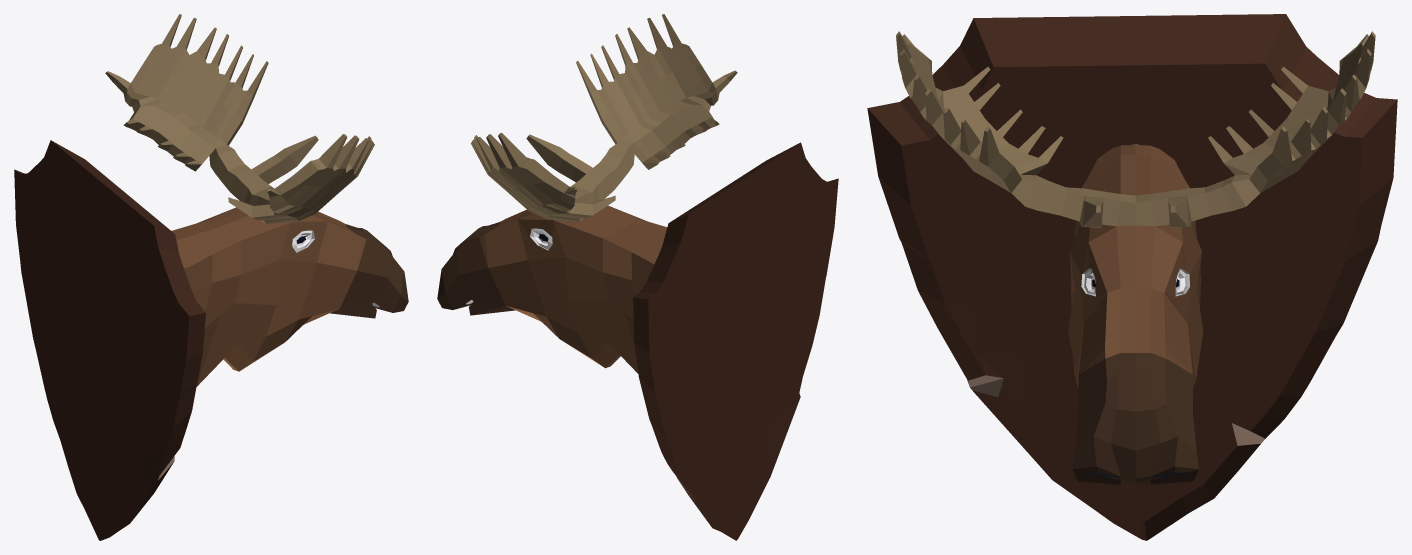
File: Moose_totem.blend1.fbx
The picture shows the model from 3 angles, left to right: view 1: azimuth 30°, elevation 25°; view 2: azimuth 150°, elevation 25°; view 3: azimuth 270°, elevation 25°; orthographic projection. The views are drawn at different scales.
Parts seen in each view (by area): view 1: Cube, Plane; view 2: Cube, Plane; view 3: Cube, Plane.
Part boxes in pixels (<box>): Cube: <box>14,140,205,540</box>; Plane: <box>105,14,408,386</box>; Cube: <box>633,142,838,540</box>; Plane: <box>437,14,737,373</box>; Cube: <box>867,14,1397,540</box>; Plane: <box>896,31,1375,484</box>.
Size of the model in its own units: 379 by 525 by 406.
